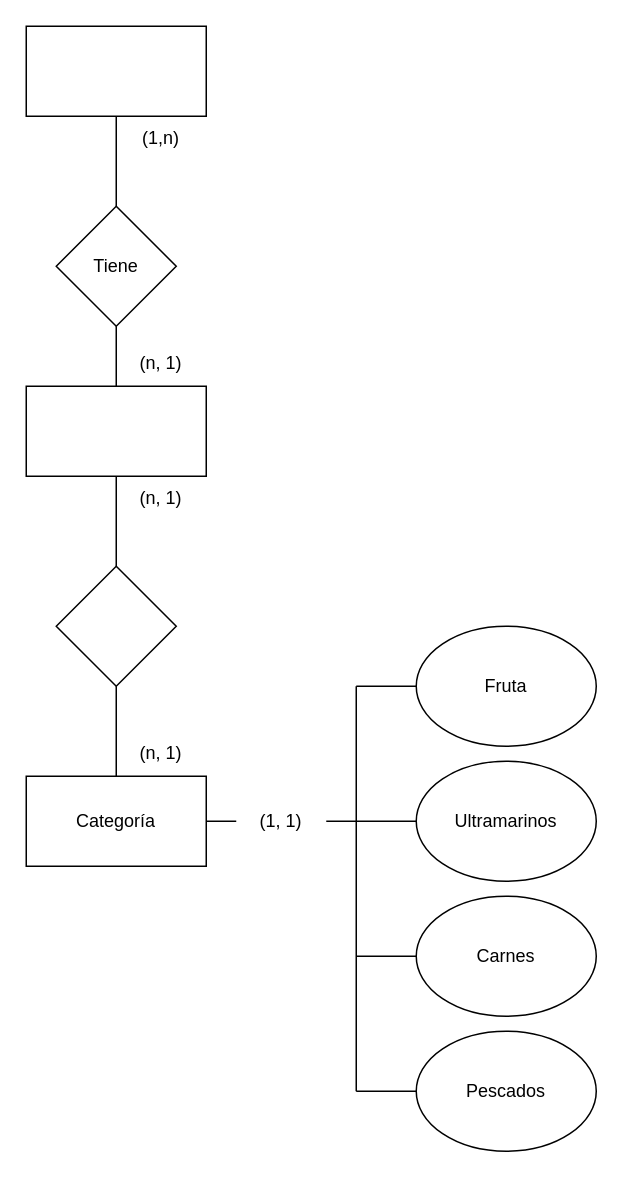
This 623x1178 diagram has some shape labels left out. Each missing label, with the centre of its shape:
"Pertenece" goes at [115,625].
"Productos" goes at [115,430].
"Supermercado" goes at [115,70].
